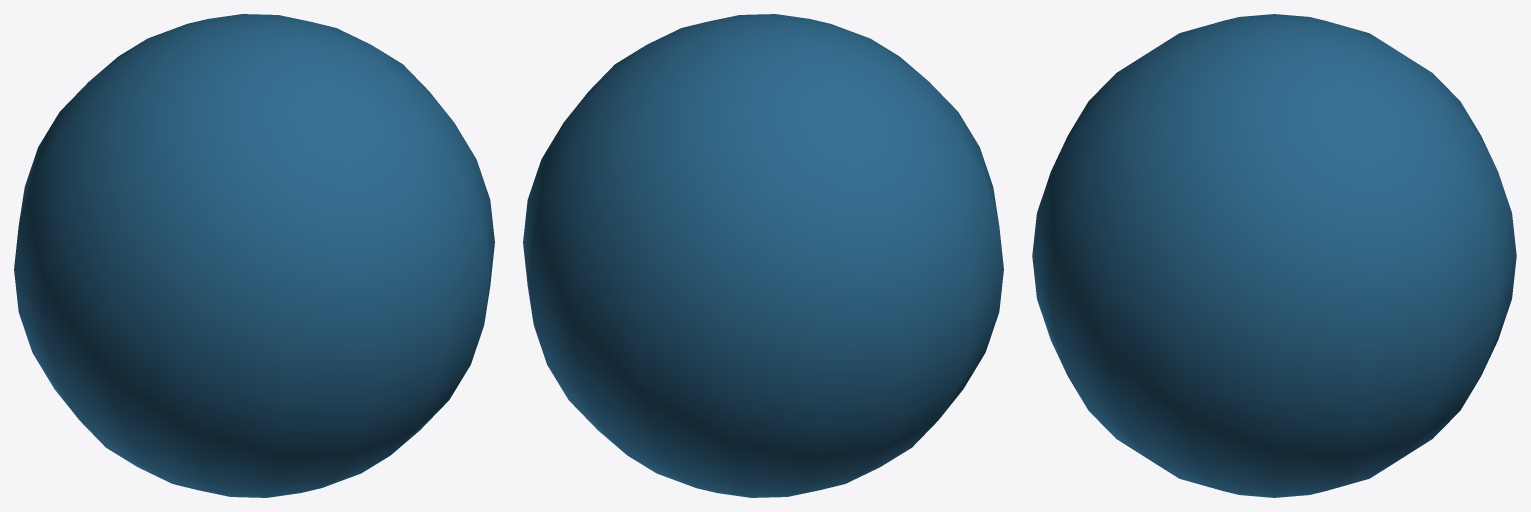
Rendered from Medicine_balls.glb.
3 renders of one model, left to right at view 1: azimuth 30°, elevation 25°; view 2: azimuth 150°, elevation 25°; view 3: azimuth 270°, elevation 25°, orthographic.
Parts seen in each view (by area): view 1: FitnessBall; view 2: FitnessBall; view 3: FitnessBall.
Boxes of the visible parts, <box> form: FitnessBall: <box>14,14,494,497</box>; FitnessBall: <box>523,14,1003,497</box>; FitnessBall: <box>1032,14,1516,497</box>.
Size of the model in its own units: 70 by 70 by 70.
Materials: 1 (1 with a texture image).
